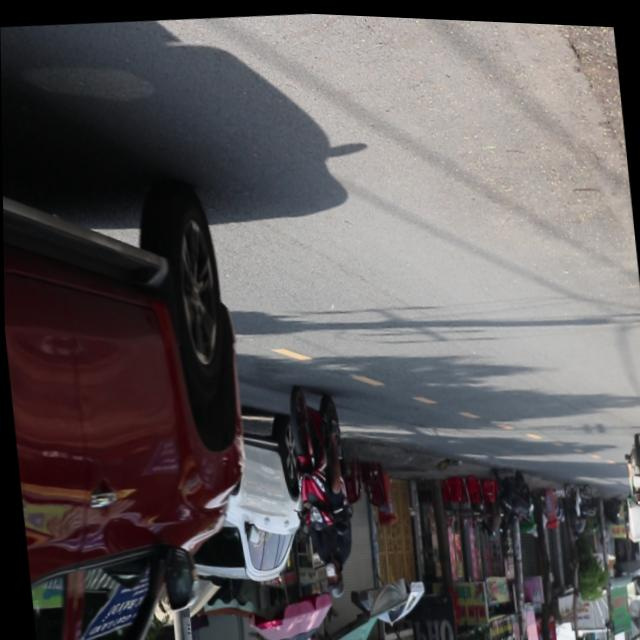helmet: (321, 559, 342, 598)
licenseplate: (282, 380, 360, 602)
